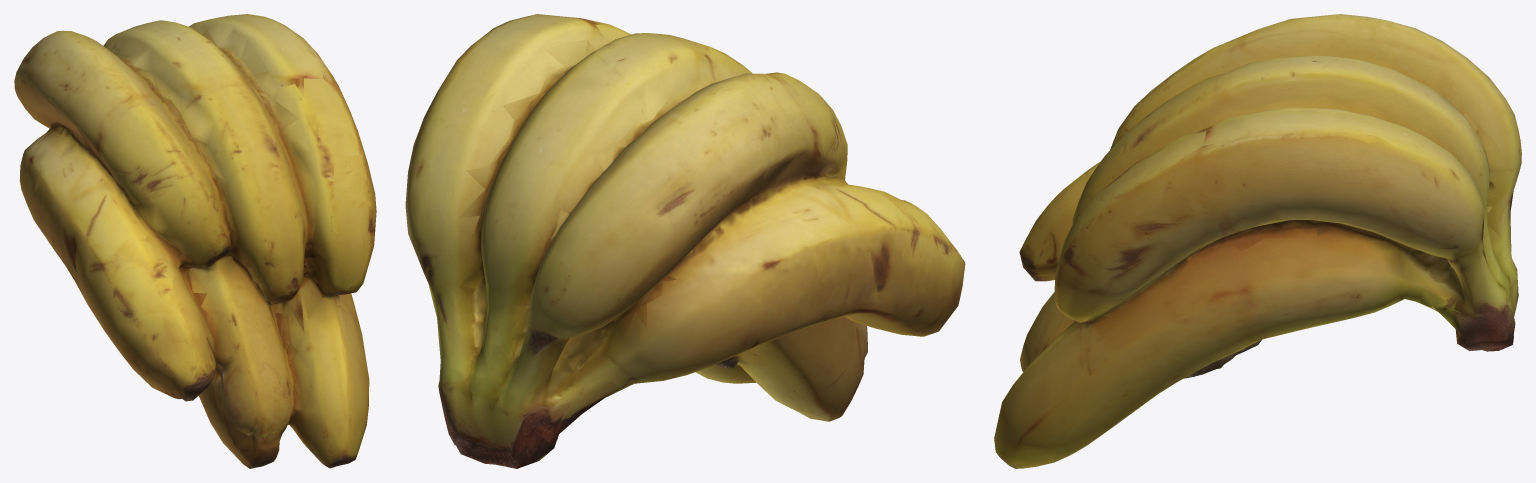
File: banana.fbx
3 views of the same model, side by side, from view 1: azimuth 30°, elevation 25°; view 2: azimuth 150°, elevation 25°; view 3: azimuth 270°, elevation 25° (orthographic). The views are drawn at different scales.
Parts seen in each view (by area): view 1: b3; view 2: b3; view 3: b3.
Boxes of the visible parts, bbox=[...] form: b3: bbox=[14, 14, 376, 468]; b3: bbox=[405, 14, 965, 468]; b3: bbox=[994, 14, 1521, 468].
Size of the model in its own units: 29.43 by 34.65 by 42.74.
